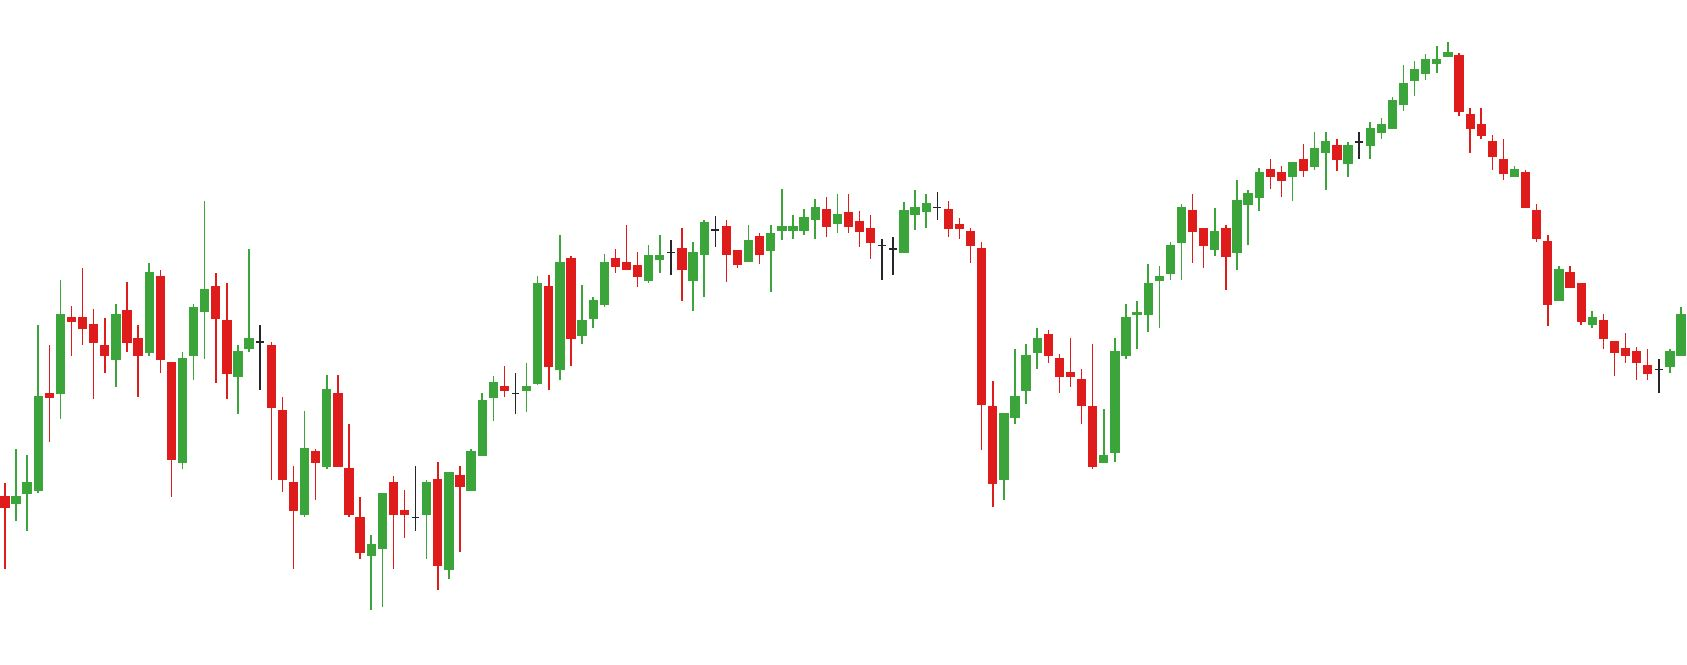buy: (284, 443, 378, 618)
sell: (76, 204, 211, 397)
